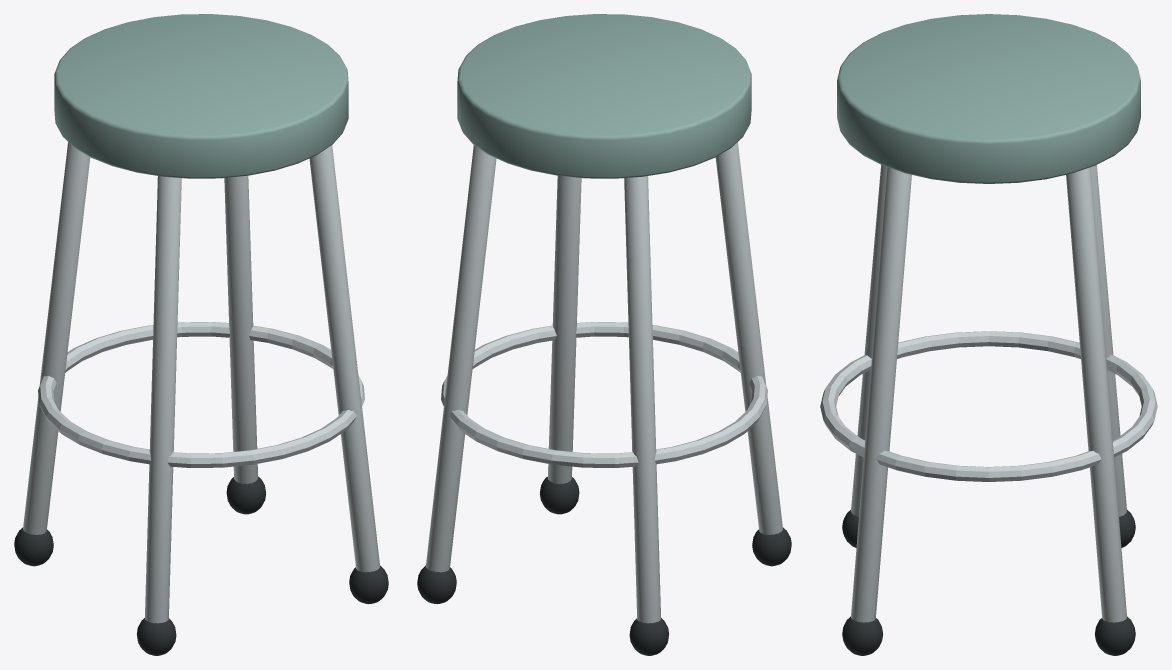
File: lab-stool.glb
3 renders of one model, left to right at view 1: azimuth 30°, elevation 25°; view 2: azimuth 150°, elevation 25°; view 3: azimuth 270°, elevation 25°, orthographic. The views are drawn at different scales.
Parts seen in each view (by area): view 1: Round stool seat.001, Stool leg.006, Stool leg.007, Stool foot ring.001, Stool leg.005, Stool leg.004, Stool foot.006, Stool foot.007, Stool foot.005, Stool foot.004; view 2: Round stool seat.001, Stool leg.005, Stool leg.004, Stool foot ring.001, Stool leg.006, Stool leg.007, Stool foot.005, Stool foot.004, Stool foot.006, Stool foot.007; view 3: Round stool seat.001, Stool leg.004, Stool leg.007, Stool foot ring.001, Stool leg.005, Stool leg.006, Stool foot.004, Stool foot.007.
Part boxes in pixels (x1=…): Round stool seat.001: x1=54, y1=14, x2=348, y2=178; Stool leg.006: x1=145, y1=176, x2=181, y2=623; Stool leg.007: x1=309, y1=145, x2=379, y2=572; Stool foot ring.001: x1=38, y1=322, x2=364, y2=467; Stool leg.005: x1=23, y1=142, x2=90, y2=534; Stool leg.004: x1=224, y1=175, x2=257, y2=483; Stool foot.006: x1=137, y1=618, x2=176, y2=655; Stool foot.007: x1=349, y1=565, x2=388, y2=604; Stool foot.005: x1=14, y1=527, x2=53, y2=566; Stool foot.004: x1=226, y1=476, x2=265, y2=514; Round stool seat.001: x1=457, y1=14, x2=751, y2=178; Stool leg.005: x1=624, y1=176, x2=660, y2=623; Stool leg.004: x1=426, y1=145, x2=496, y2=572; Stool foot ring.001: x1=441, y1=322, x2=767, y2=467; Stool leg.006: x1=715, y1=142, x2=782, y2=534; Stool leg.007: x1=548, y1=175, x2=581, y2=483; Stool foot.005: x1=629, y1=618, x2=668, y2=655; Stool foot.004: x1=417, y1=565, x2=456, y2=604; Stool foot.006: x1=752, y1=527, x2=791, y2=566; Stool foot.007: x1=540, y1=476, x2=579, y2=514; Round stool seat.001: x1=837, y1=14, x2=1140, y2=183; Stool leg.004: x1=1066, y1=167, x2=1126, y2=622; Stool leg.007: x1=851, y1=167, x2=911, y2=622; Stool foot ring.001: x1=820, y1=331, x2=1157, y2=481; Stool leg.005: x1=1090, y1=165, x2=1126, y2=516; Stool leg.006: x1=851, y1=165, x2=887, y2=516; Stool foot.004: x1=1095, y1=616, x2=1135, y2=655; Stool foot.007: x1=842, y1=616, x2=882, y2=655.
Size of the model in its own units: 0.378 by 0.6475 by 0.378.
